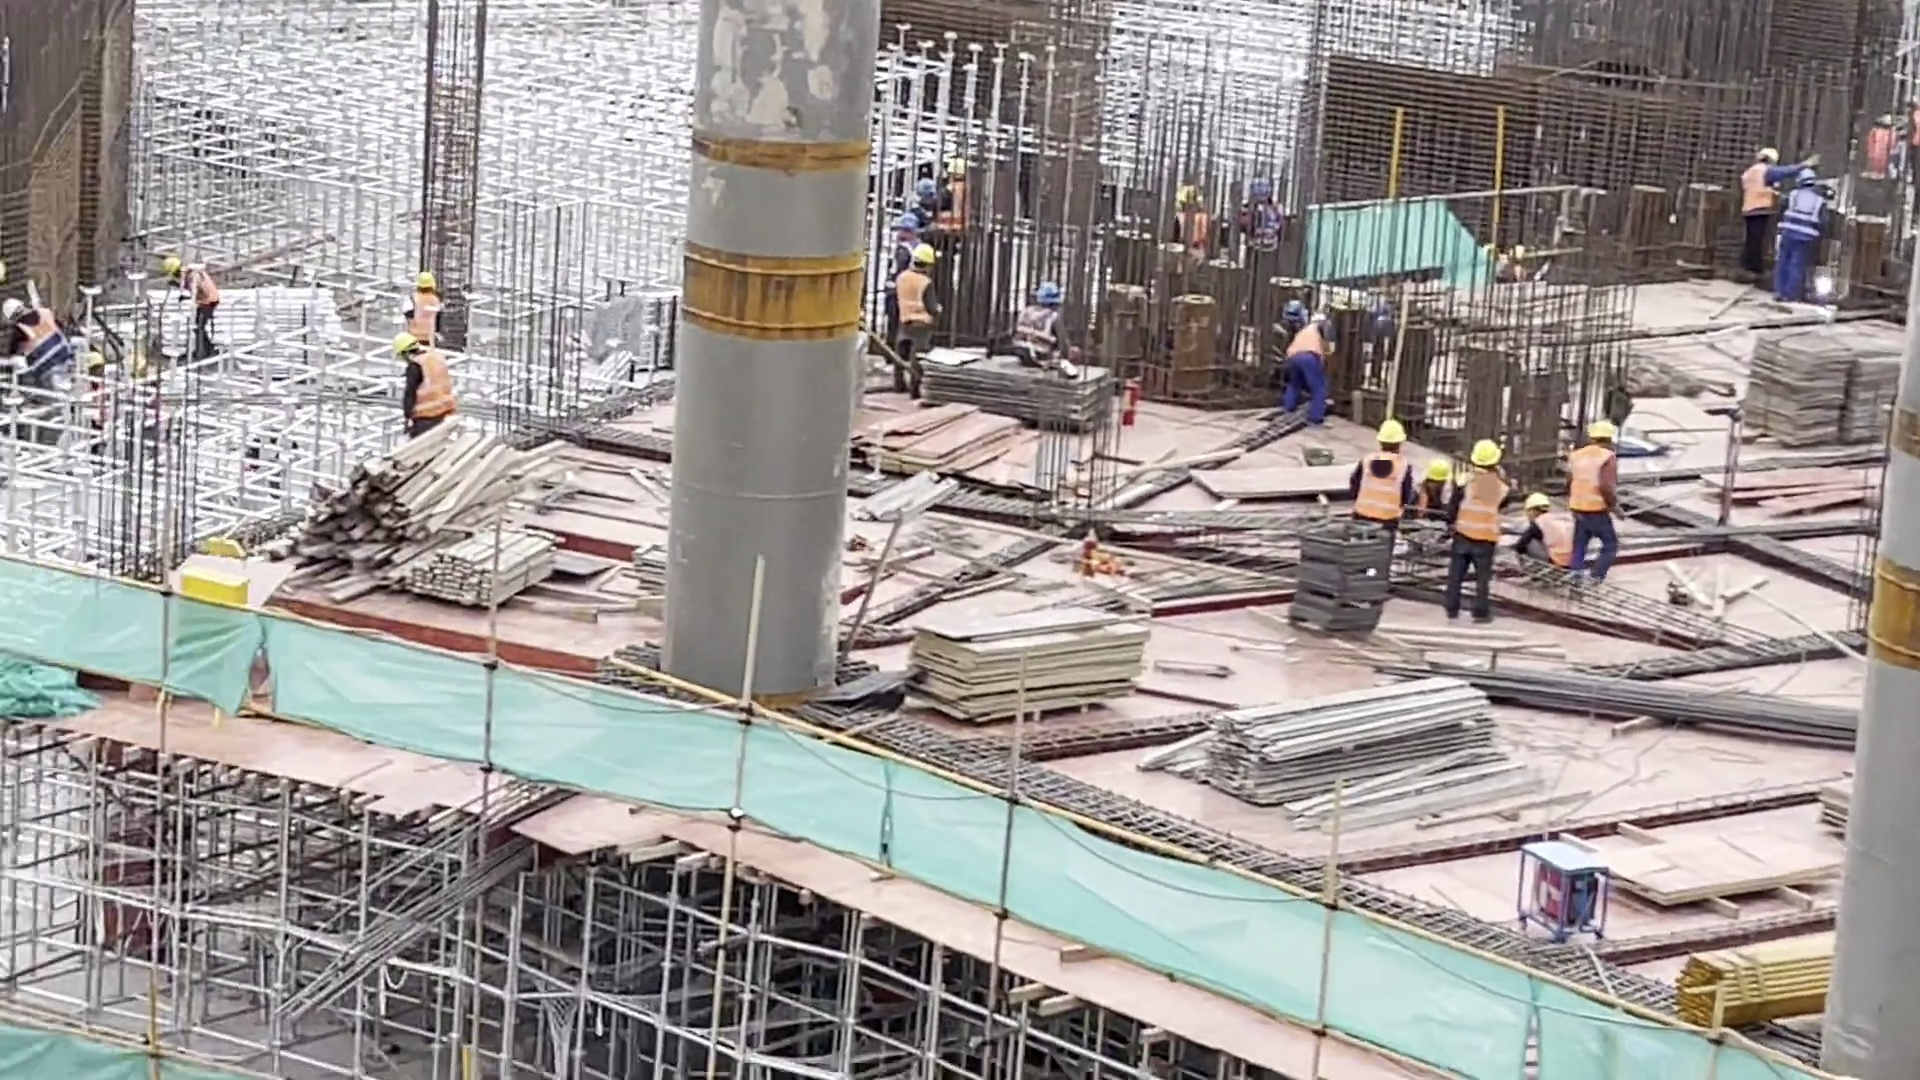helmet: (1035, 279, 1063, 310), (1469, 439, 1501, 466), (1375, 419, 1408, 444), (1423, 456, 1450, 484), (1588, 417, 1619, 441), (912, 241, 938, 266), (389, 331, 415, 355), (1524, 489, 1552, 511), (1795, 169, 1820, 187), (414, 272, 437, 289), (1758, 146, 1780, 162)
person: (1446, 437, 1506, 616), (1569, 419, 1620, 579), (1278, 308, 1338, 428), (898, 243, 944, 397), (1775, 166, 1828, 298), (1735, 146, 1788, 266), (4, 299, 71, 390), (1351, 417, 1411, 519), (395, 332, 455, 434), (164, 256, 222, 356), (1524, 486, 1573, 577), (1017, 281, 1064, 354), (404, 272, 440, 343), (1422, 456, 1449, 508)
vest: (1457, 466, 1502, 546), (1357, 452, 1406, 519), (411, 349, 455, 423), (1572, 444, 1617, 513), (1782, 185, 1825, 242), (1740, 164, 1781, 218), (1533, 512, 1570, 571), (1018, 304, 1064, 352), (899, 270, 938, 327), (412, 292, 441, 343), (1287, 324, 1329, 357)
